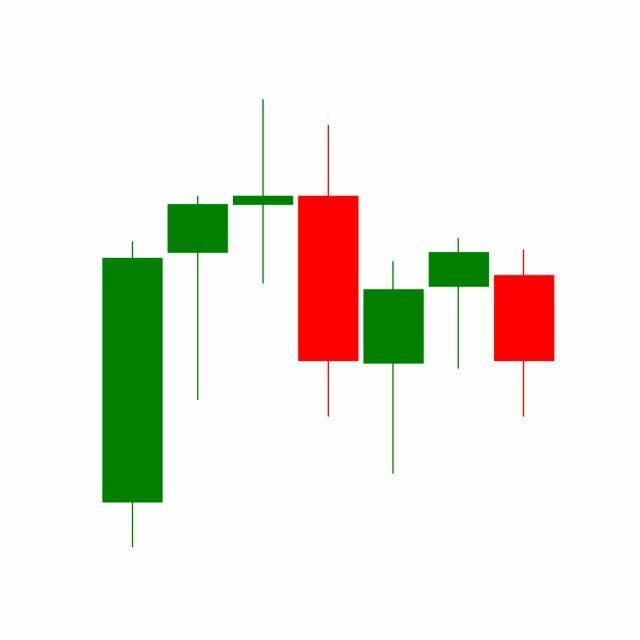Upside-Downside Gap Three Methods: (360, 235, 556, 477)
